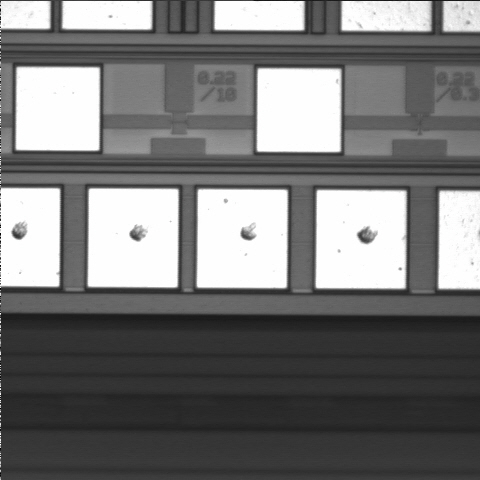pad: (197, 189, 287, 288), (88, 189, 178, 287), (316, 190, 406, 288), (16, 67, 100, 150), (257, 69, 341, 152)
